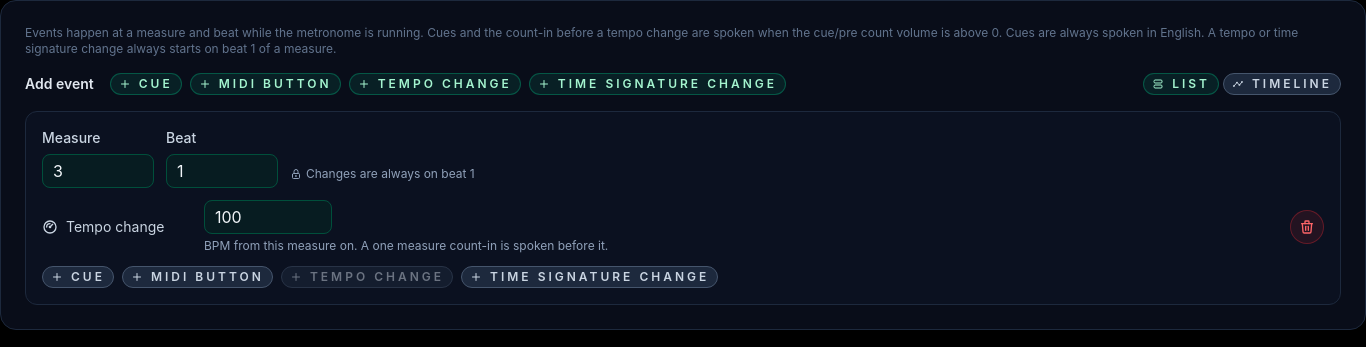
Test: EventsTab › limits the tempo to 300 BPM
Replace the text in the number field named "Tempo (BPM)" with "500": point(268, 217) [204,200,332,234]
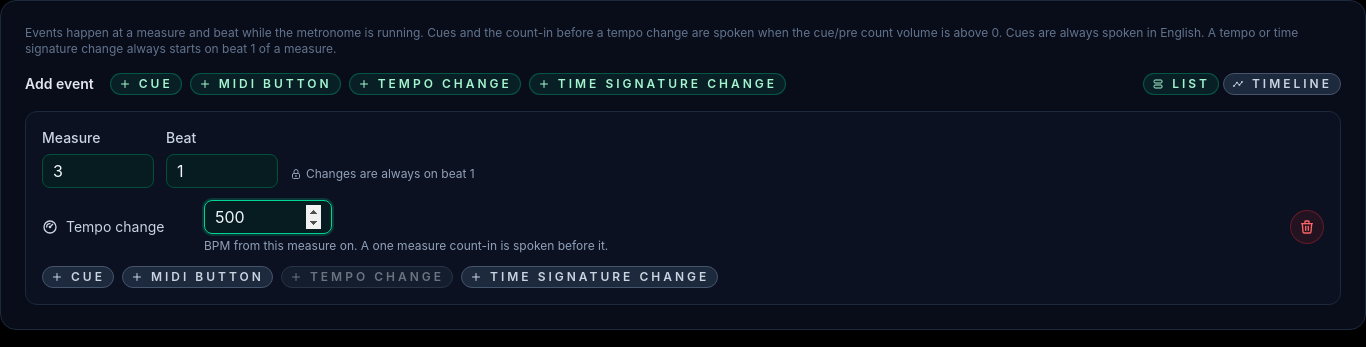
Press Tab
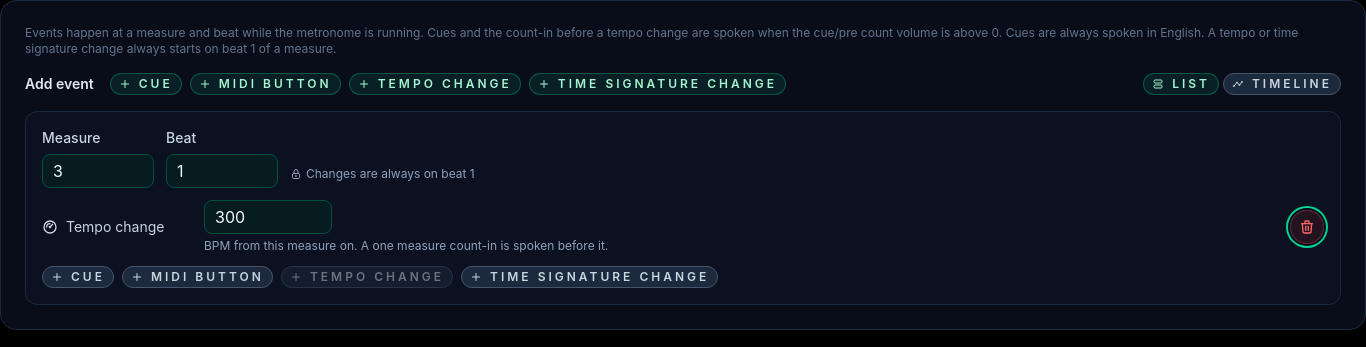
Expected: the number field named "Tempo (BPM)" holds "300", [204,200,332,234]
